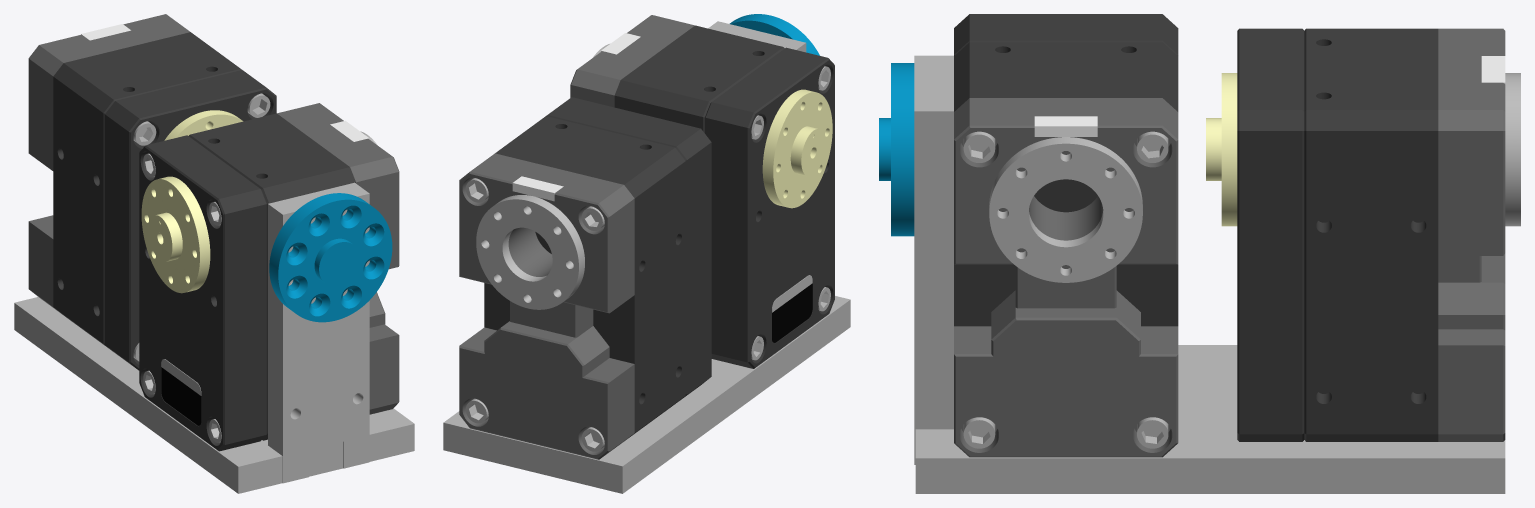
Rendered from HipMotorR.obj.
The picture shows the model from 3 angles, left to right: view 1: azimuth 30°, elevation 25°; view 2: azimuth 150°, elevation 25°; view 3: azimuth 270°, elevation 25°; orthographic projection. The views are drawn at different scales.
Parts seen in each view (by area): view 1: Solid1:3, Solid1:32, Solid1:16, Solid1:33, Solid1:20, Solid1:34, Solid1:5, Solid1:15, Solid1:22, Solid1, Solid1:1, Solid1:17 (+1 smaller); view 2: Solid1:22, Solid1:3, Solid1:32, Solid1:33, Solid1:20, Solid1:15, Solid1:31, Solid1, Solid1:5, Solid1:1, Solid1:34, Solid1:16 (+3 smaller); view 3: Solid1:32, Solid1:5, Solid1:33, Solid1:20, Solid1:22, Solid1:15, Solid1:16, Solid1:14, Solid1:3, Solid1:34, Solid1:17, Solid1:31 (+5 smaller).
Part boxes in pixels (bbox=[...]): Solid1:3: bbox=[139, 135, 267, 451]; Solid1:32: bbox=[53, 32, 241, 351]; Solid1:16: bbox=[268, 182, 369, 483]; Solid1:33: bbox=[14, 297, 414, 493]; Solid1:20: bbox=[105, 70, 276, 370]; Solid1:34: bbox=[269, 193, 392, 322]; Solid1:5: bbox=[277, 103, 399, 414]; Solid1:15: bbox=[189, 113, 355, 440]; Solid1:22: bbox=[28, 14, 189, 312]; Solid1: bbox=[141, 176, 210, 293]; Solid1:1: bbox=[161, 367, 201, 425]; Solid1:17: bbox=[164, 110, 243, 140]; Solid1:22: bbox=[459, 153, 634, 459]; Solid1:3: bbox=[705, 47, 834, 368]; Solid1:32: bbox=[484, 116, 685, 438]; Solid1:33: bbox=[443, 296, 850, 493]; Solid1:20: bbox=[546, 97, 711, 400]; Solid1:15: bbox=[614, 25, 784, 133]; Solid1:31: bbox=[476, 195, 584, 309]; Solid1: bbox=[762, 89, 832, 208]; Solid1:5: bbox=[570, 15, 694, 107]; Solid1:1: bbox=[772, 283, 812, 342]; Solid1:34: bbox=[729, 14, 819, 55]; Solid1:16: bbox=[708, 21, 806, 52]; Solid1:32: bbox=[1304, 28, 1438, 441]; Solid1:5: bbox=[954, 98, 1178, 457]; Solid1:33: bbox=[915, 345, 1505, 493]; Solid1:20: bbox=[1237, 28, 1304, 441]; Solid1:22: bbox=[1438, 28, 1505, 441]; Solid1:15: bbox=[954, 42, 1178, 326]; Solid1:16: bbox=[914, 55, 953, 464]; Solid1:14: bbox=[989, 137, 1142, 282]; Solid1:3: bbox=[954, 14, 1178, 55]; Solid1:34: bbox=[879, 63, 914, 236]; Solid1:17: bbox=[1206, 73, 1237, 226]; Solid1:31: bbox=[1505, 73, 1520, 226].
Size of the model in its own units: 0.04 by 0.0515 by 0.0815.
